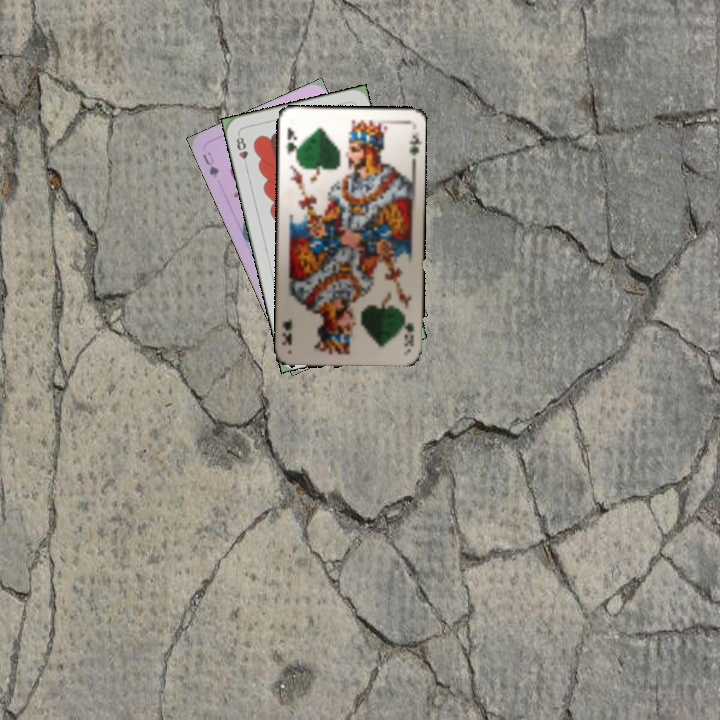GK: (399, 311, 417, 349), (283, 123, 300, 161)
GU: (198, 148, 222, 180)
H8: (232, 130, 251, 170)
